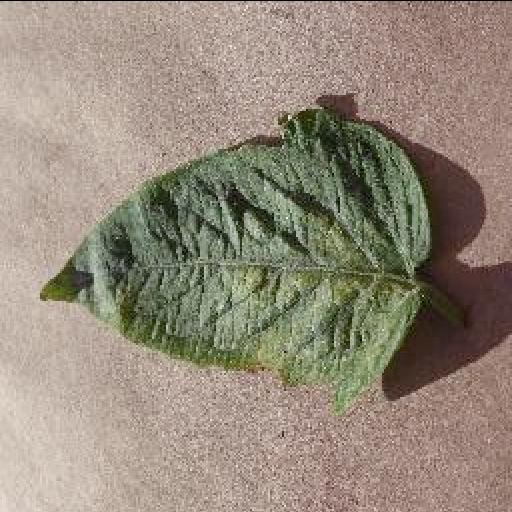disease_tomato: (34, 108, 434, 409)
